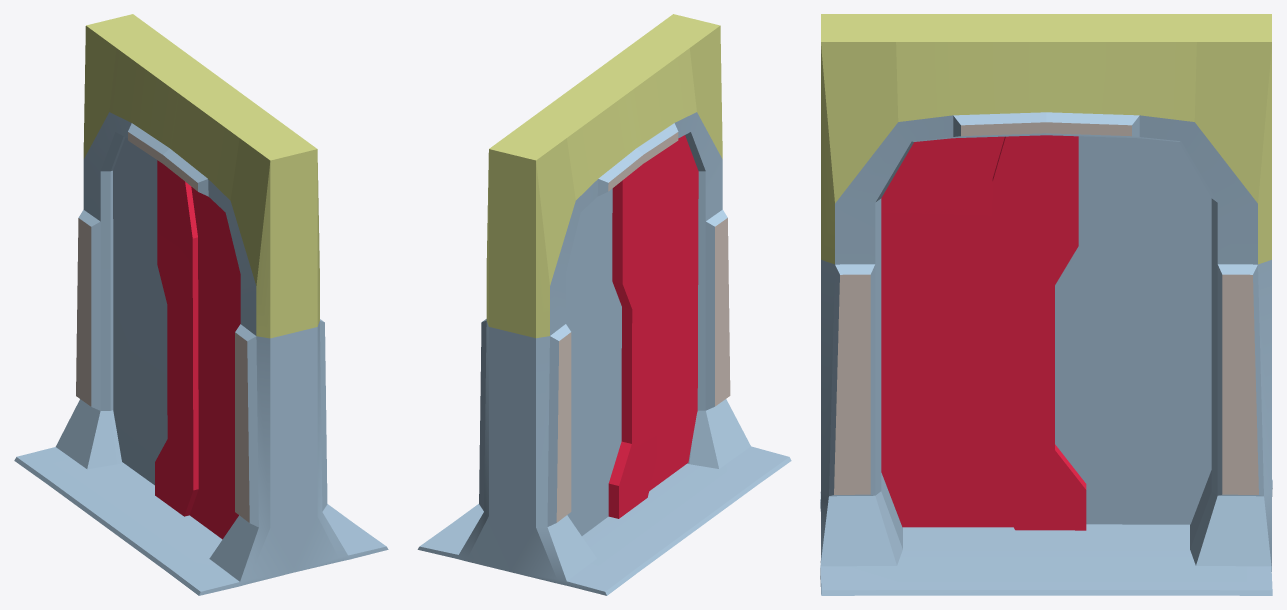
Rendered from Door.fbx.
The picture shows the model from 3 angles, left to right: view 1: azimuth 30°, elevation 25°; view 2: azimuth 150°, elevation 25°; view 3: azimuth 270°, elevation 25°; orthographic projection. The views are drawn at different scales.
Parts seen in each view (by area): view 1: Door_Right, Door_Right.001, Door_Right.002; view 2: Door_Right, Door_Right.001, Door_Right.002; view 3: Door_Right, Door_Right.001, Door_Right.002.
Boxes of the visible parts, <box> form: Door_Right: <box>14,14,388,595</box>; Door_Right.001: <box>155,160,240,539</box>; Door_Right.002: <box>113,137,167,485</box>; Door_Right: <box>417,14,791,595</box>; Door_Right.001: <box>608,135,698,518</box>; Door_Right.002: <box>566,188,621,535</box>; Door_Right: <box>820,14,1272,595</box>; Door_Right.001: <box>881,135,1086,530</box>; Door_Right.002: <box>1055,136,1211,524</box>.
Size of the model in its own units: 119 by 250 by 201.
